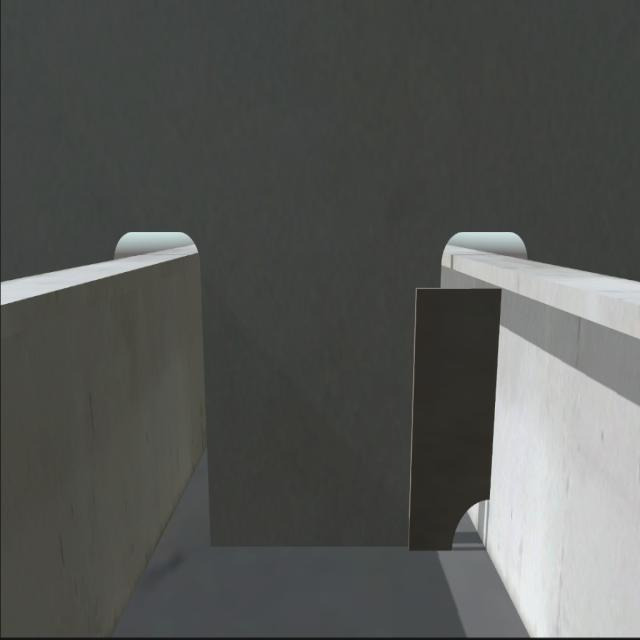fillet_hole: (449, 500, 487, 548)
fillet_yong_jeop_jang: (207, 535, 454, 557)
longi_yong_jeop_jang: (482, 279, 504, 502)
plate_CP01: (412, 283, 494, 543)
